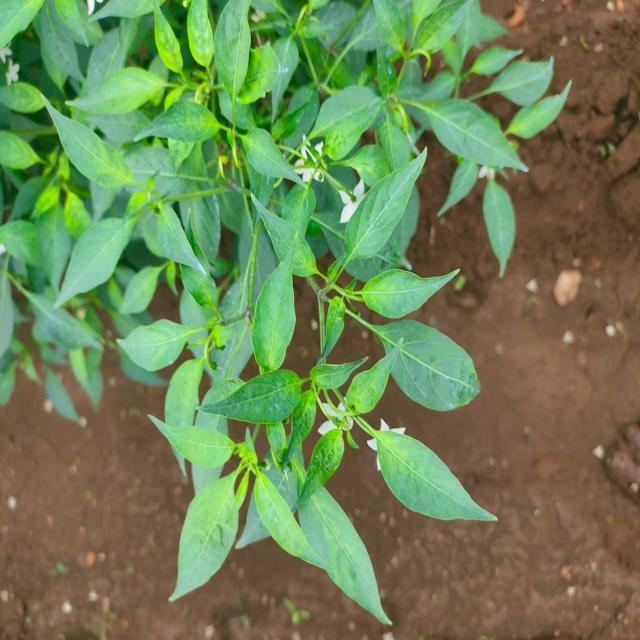Mosaic_virus: (0, 0, 567, 598)
